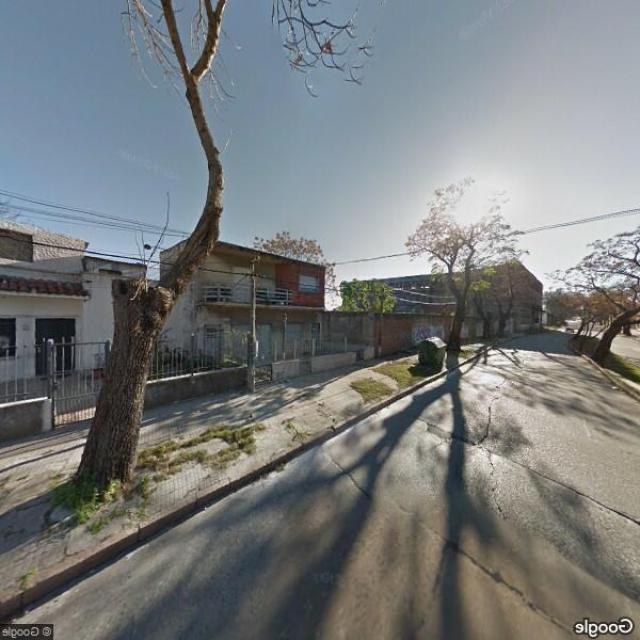garbage container: (406, 331, 454, 374)
